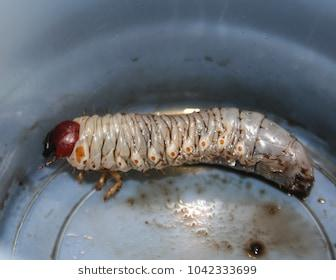grub: (41, 107, 318, 197)
